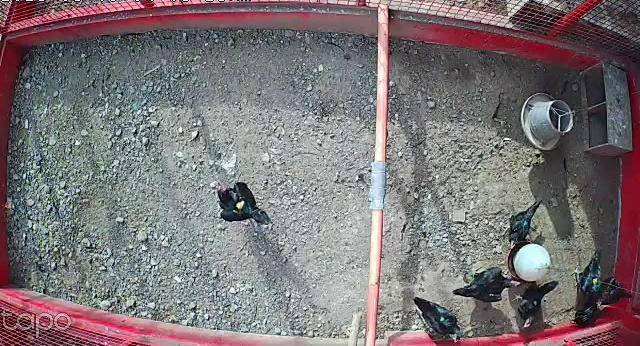Chicken: (448, 263, 522, 306), (510, 273, 562, 334), (215, 175, 272, 227), (411, 294, 464, 345), (505, 198, 543, 250), (569, 248, 607, 299), (571, 297, 606, 325), (466, 304, 469, 304)
Rooster: (593, 271, 636, 309)
Saddle_Color_Yellow: (236, 198, 248, 212)
